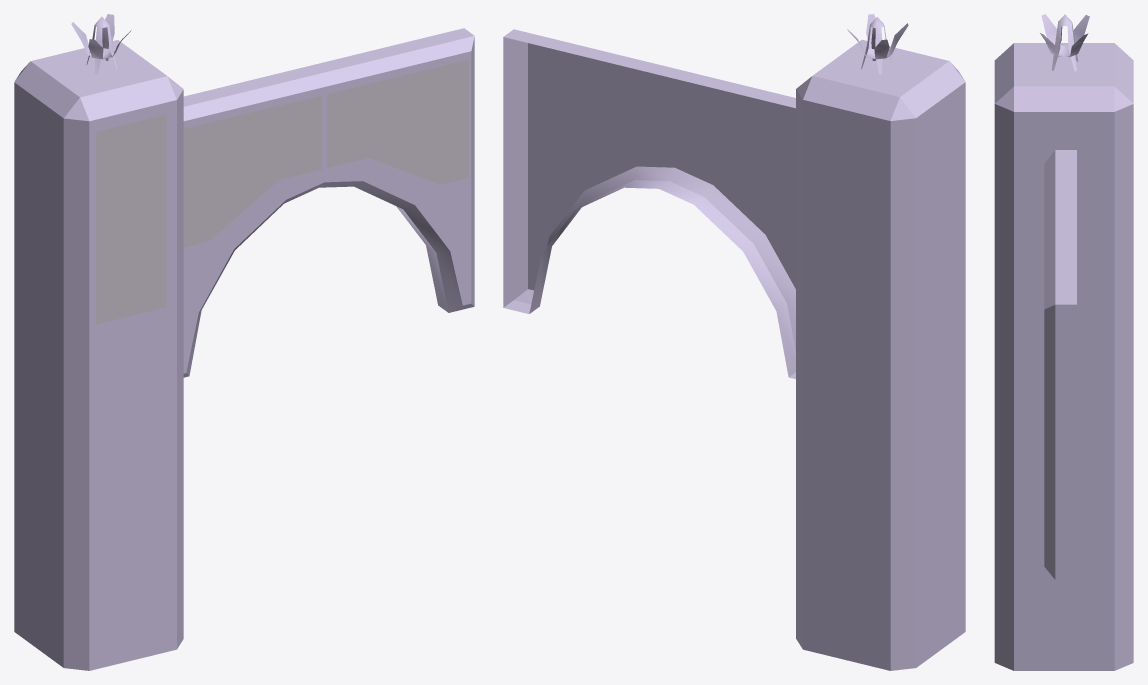
3 views of the same model, side by side, from view 1: azimuth 30°, elevation 25°; view 2: azimuth 150°, elevation 25°; view 3: azimuth 270°, elevation 25° (orthographic).
Visible parts, largest first — view 1: Object11; view 2: Object11; view 3: Object11.
Boxes of the visible parts, x1=… form: Object11: x1=14, y1=14, x2=474, y2=670; Object11: x1=503, y1=14, x2=965, y2=670; Object11: x1=994, y1=14, x2=1133, y2=670.
Bounding box in the file's own units: 396 × 543 × 109.
